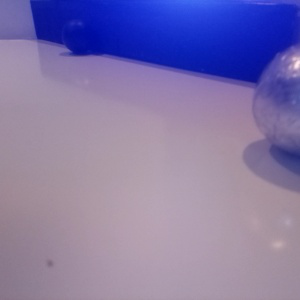alive_ball: (253, 43, 300, 155)
dead_ball: (63, 19, 95, 53)
